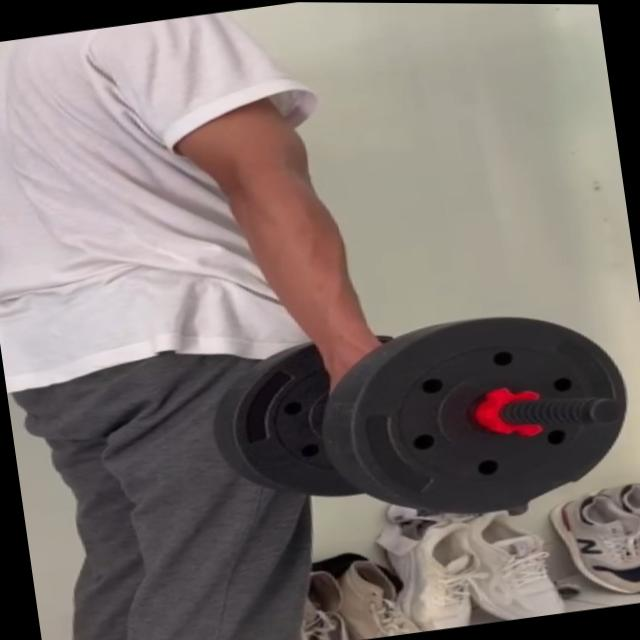dumbbell: (206, 294, 639, 541)
